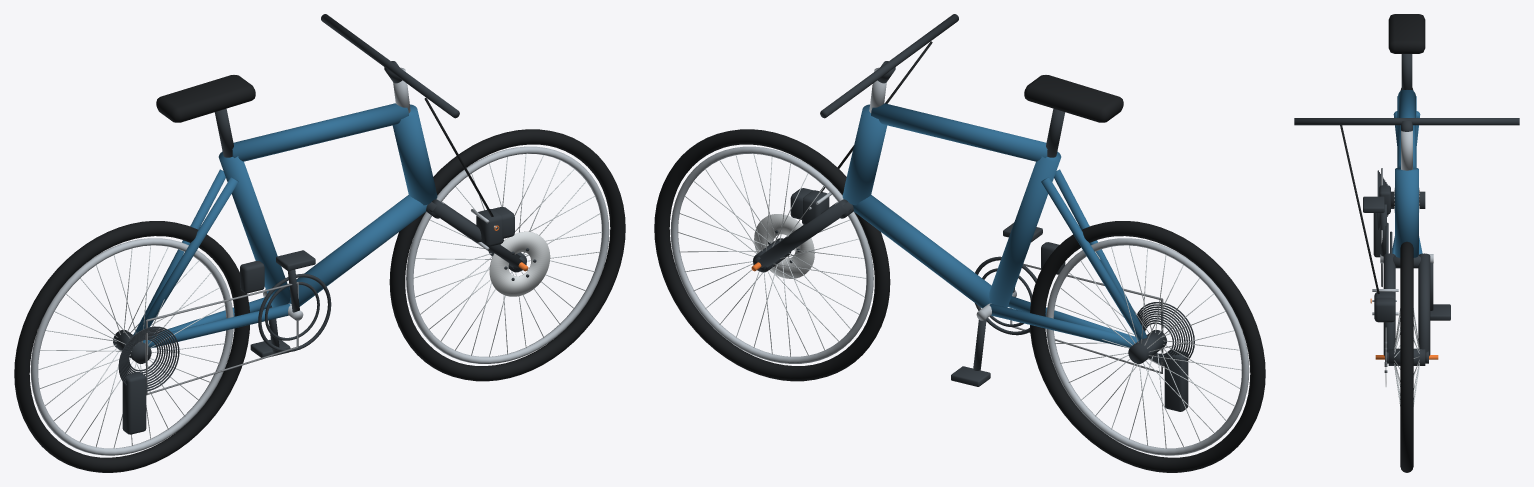
Rendered from BicyclePrototype.fbx.
3 renders of one model, left to right at view 1: azimuth 30°, elevation 25°; view 2: azimuth 150°, elevation 25°; view 3: azimuth 270°, elevation 25°, orthographic. The views are drawn at different scales.
Visible parts, largest first — view 1: Frame, Rear_Tire, Front_Tire, Front_Rim, Rear_Rim, Rear_Spokes, Saddle, Front_Spokes, Front_Rotor, Cassette_10Speed, Handlebar, Rear_Derailleur (+5 smaller); view 2: Frame, Rear_Tire, Front_Tire, Front_Rim, Rear_Rim, Rear_Spokes, Front_Spokes, Saddle, Front_Rotor, Cassette_10Speed, Handlebar, Fork_Right (+4 smaller); view 3: Front_Tire, Frame, Handlebar, Saddle, Fork_Right, Fork_Left, Front_Caliper, Front_Spokes, BrakeHose, Fork_Steerer, Front_Hub, Seatpost (+4 smaller).
Part boxes in pixels (bbox=[...]): Frame: bbox=[133, 103, 437, 348]; Rear_Tire: bbox=[14, 221, 249, 472]; Front_Tire: bbox=[389, 129, 625, 381]; Front_Rim: bbox=[406, 146, 609, 363]; Rear_Rim: bbox=[30, 238, 233, 455]; Rear_Spokes: bbox=[38, 245, 225, 448]; Saddle: bbox=[156, 75, 255, 122]; Front_Spokes: bbox=[413, 154, 602, 356]; Front_Rotor: bbox=[489, 231, 550, 296]; Cassette_10Speed: bbox=[118, 326, 179, 391]; Handlebar: bbox=[321, 14, 459, 118]; Rear_Derailleur: bbox=[122, 372, 146, 434]; Frame: bbox=[842, 103, 1147, 347]; Rear_Tire: bbox=[1030, 221, 1265, 472]; Front_Tire: bbox=[654, 129, 890, 381]; Front_Rim: bbox=[670, 146, 873, 363]; Rear_Rim: bbox=[1046, 238, 1249, 455]; Rear_Spokes: bbox=[1054, 245, 1241, 448]; Front_Spokes: bbox=[677, 154, 866, 356]; Saddle: bbox=[1024, 75, 1123, 122]; Front_Rotor: bbox=[754, 214, 814, 278]; Cassette_10Speed: bbox=[1135, 302, 1194, 366]; Handlebar: bbox=[820, 14, 958, 118]; Fork_Right: bbox=[757, 199, 850, 267]; Front_Tire: bbox=[1400, 241, 1413, 472]; Frame: bbox=[1392, 90, 1422, 257]; Handlebar: bbox=[1294, 118, 1519, 125]; Saddle: bbox=[1388, 14, 1425, 53]; Fork_Right: bbox=[1418, 253, 1430, 356]; Fork_Left: bbox=[1383, 253, 1395, 356]; Front_Caliper: bbox=[1374, 291, 1395, 322]; Front_Spokes: bbox=[1394, 308, 1419, 406]; BrakeHose: bbox=[1340, 125, 1379, 293]; Fork_Steerer: bbox=[1401, 130, 1412, 170]; Front_Hub: bbox=[1388, 348, 1425, 365]; Seatpost: bbox=[1401, 54, 1412, 89].
Size of the model in its own units: 1.82 by 1.03 by 0.68.
